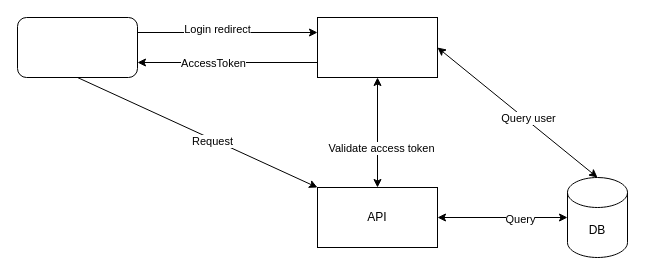
Some shapes in this 645 by 275 pixel diagram are drawn without their labels. Each missing label, with the centre of its shape:
"IAM" belongs at (x=377, y=47).
"webapp" belongs at (x=77, y=47).
